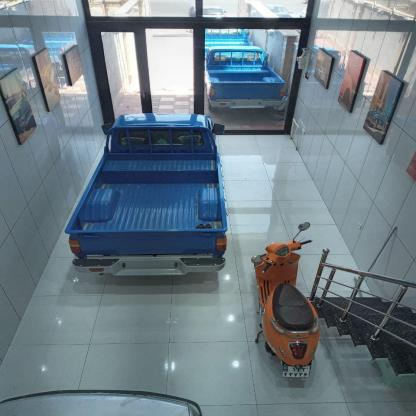Car: (54, 108, 240, 277), (178, 42, 293, 126)
